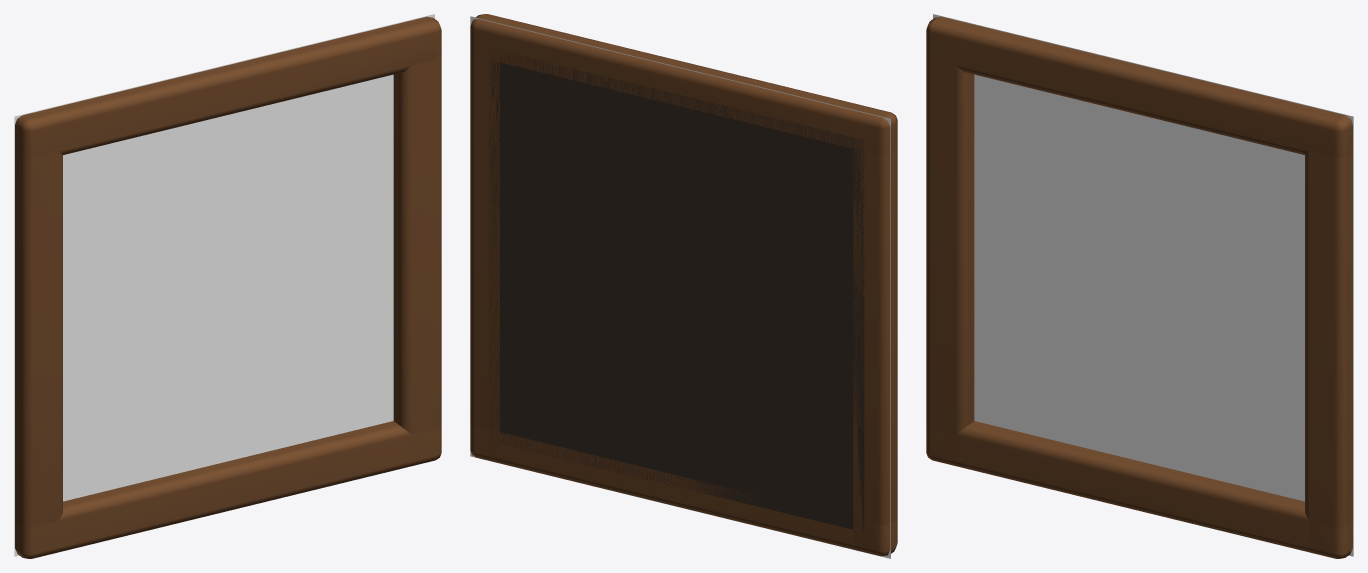
The model's file is furn_diploma.glb.
3 renders of one model, left to right at view 1: azimuth 30°, elevation 25°; view 2: azimuth 150°, elevation 25°; view 3: azimuth 330°, elevation 25°, orthographic.
Parts seen in each view (by area): view 1: furn_diploma_pic, furn_diploma_main; view 2: furn_diploma_main, furn_diploma_pic; view 3: furn_diploma_pic, furn_diploma_main.
Part boxes in pixels (x1,y1,x2,y2): furn_diploma_pic: [14, 14, 434, 556]; furn_diploma_main: [15, 16, 441, 558]; furn_diploma_main: [470, 14, 897, 556]; furn_diploma_pic: [470, 16, 890, 558]; furn_diploma_pic: [933, 14, 1353, 556]; furn_diploma_main: [926, 16, 1352, 558].
Size of the model in its own units: 1 by 1 by 0.06.
